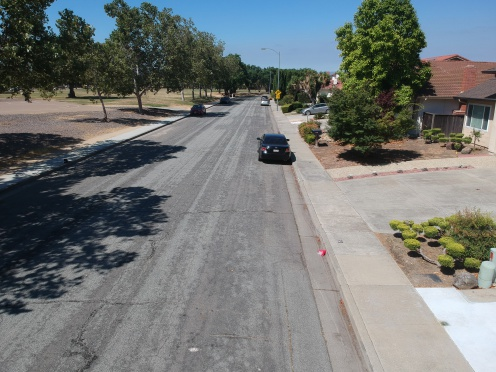can: (335, 238, 346, 245)
plastic bag: (312, 242, 330, 261)
